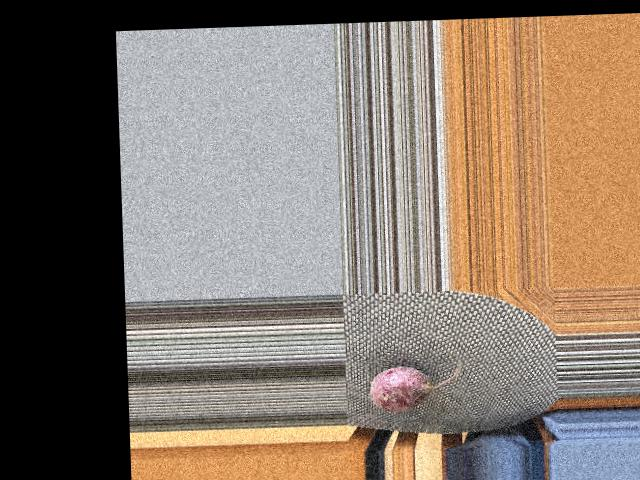beet: (369, 359, 463, 413)
